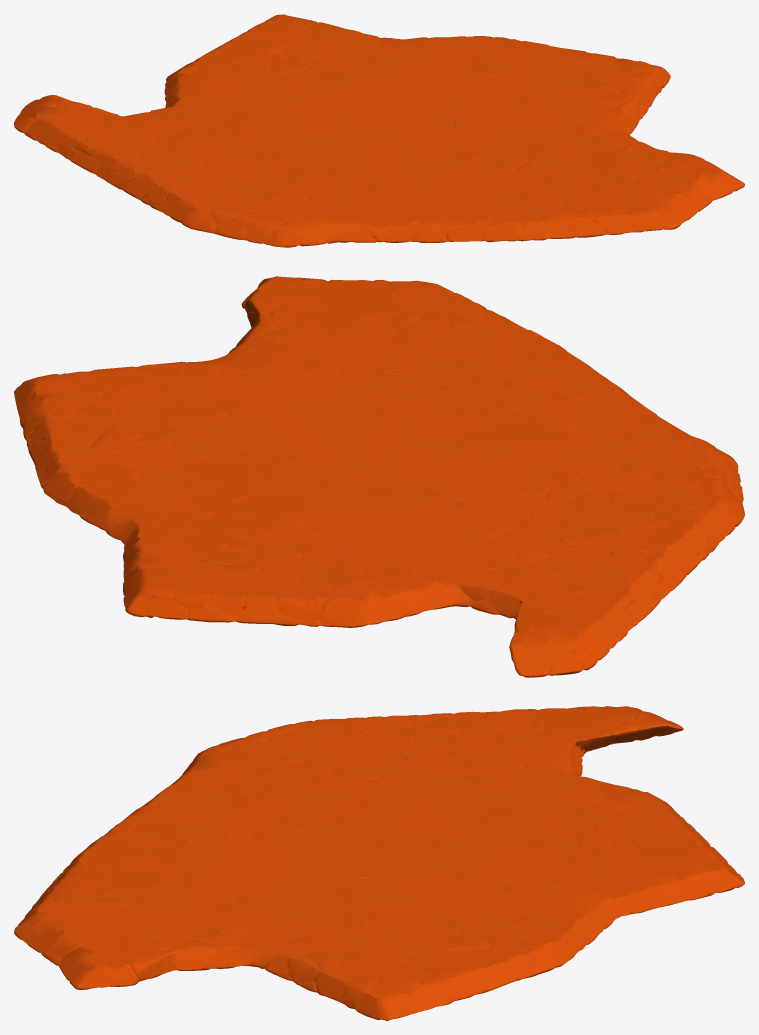
3 renders of one model, top to bottom at view 1: azimuth 30°, elevation 25°; view 2: azimuth 150°, elevation 25°; view 3: azimuth 270°, elevation 25°, orthographic. The views are drawn at different scales.
Parts seen in each view (by area): view 1: Mesh_66_LOD0; view 2: Mesh_66_LOD0; view 3: Mesh_66_LOD0.
Part boxes in pixels (x1,y1,x2,y2): Mesh_66_LOD0: (14, 14, 744, 247); Mesh_66_LOD0: (14, 276, 744, 677); Mesh_66_LOD0: (14, 706, 744, 1020).
Size of what is drawn, in the model's own units: 21282 by 620 by 21223.
